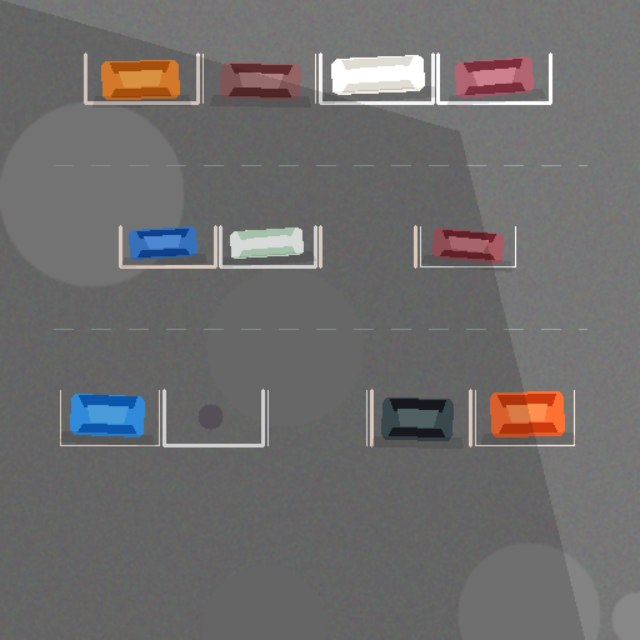space-empty: (164, 390, 263, 445), (267, 390, 366, 445), (320, 226, 415, 266)
space-occupied: (60, 390, 159, 445), (371, 390, 470, 445), (475, 390, 574, 445), (320, 54, 433, 102), (437, 54, 550, 102), (85, 54, 197, 102), (203, 54, 315, 102), (120, 226, 215, 266), (220, 226, 315, 266), (420, 226, 515, 266)
